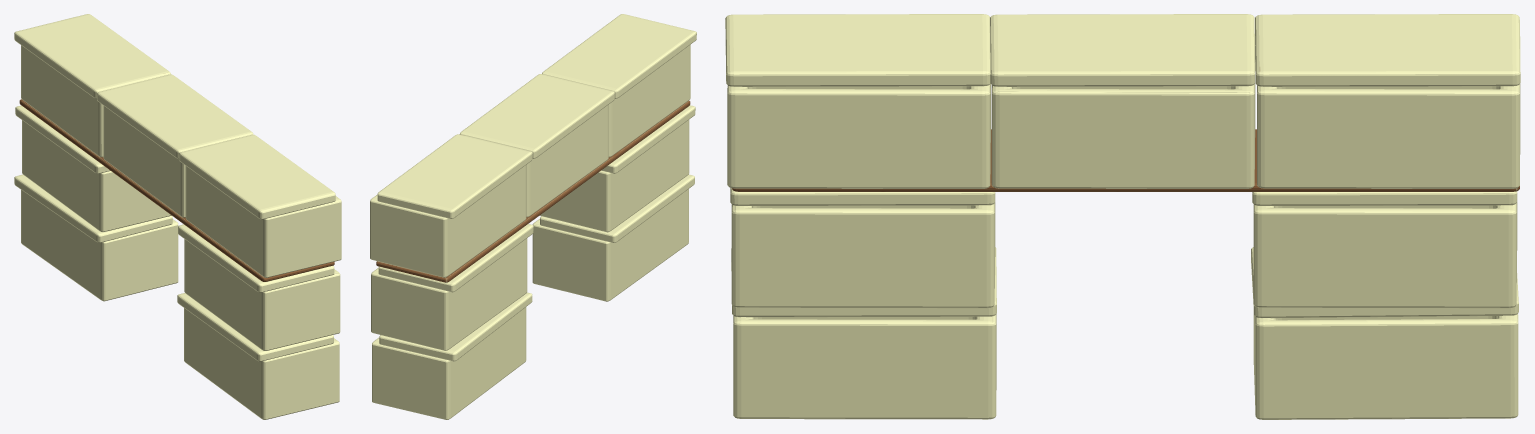
File: HIGHER.fbx
3 renders of one model, left to right at view 1: azimuth 30°, elevation 25°; view 2: azimuth 150°, elevation 25°; view 3: azimuth 270°, elevation 25°, orthographic. The views are drawn at different scales.
Parts seen in each view (by area): view 1: higher; view 2: higher; view 3: higher.
Boxes of the visible parts, x1=… form: higher: x1=14, y1=14, x2=341, y2=419; higher: x1=370, y1=14, x2=696, y2=419; higher: x1=725, y1=14, x2=1520, y2=419.
Size of the model in its own units: 237 by 560 by 1179.
1 material, 1 textured.
